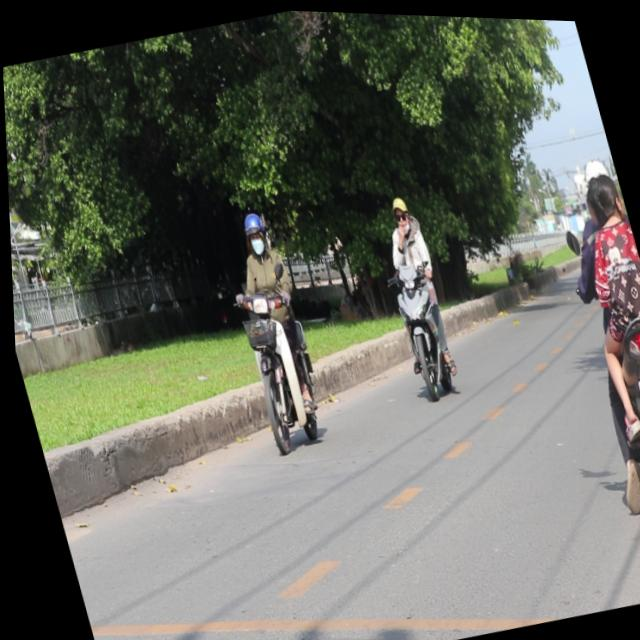helmet: (234, 205, 269, 256), (384, 188, 410, 232)
licenseplate: (530, 145, 640, 526), (203, 201, 335, 457), (361, 186, 463, 399)
motorcyclist: (575, 159, 625, 225)
nohelmet: (631, 368, 640, 409)
